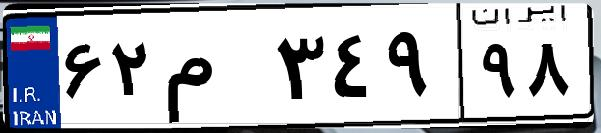2: (110, 28, 158, 98)
3: (270, 28, 330, 110)
4: (330, 28, 385, 110)
6: (57, 26, 110, 100)
8: (525, 38, 570, 115)
9: (385, 28, 445, 110), (475, 38, 525, 113)
م: (158, 20, 270, 120)
